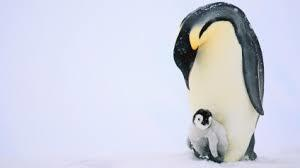emporer: (169, 2, 271, 162)
